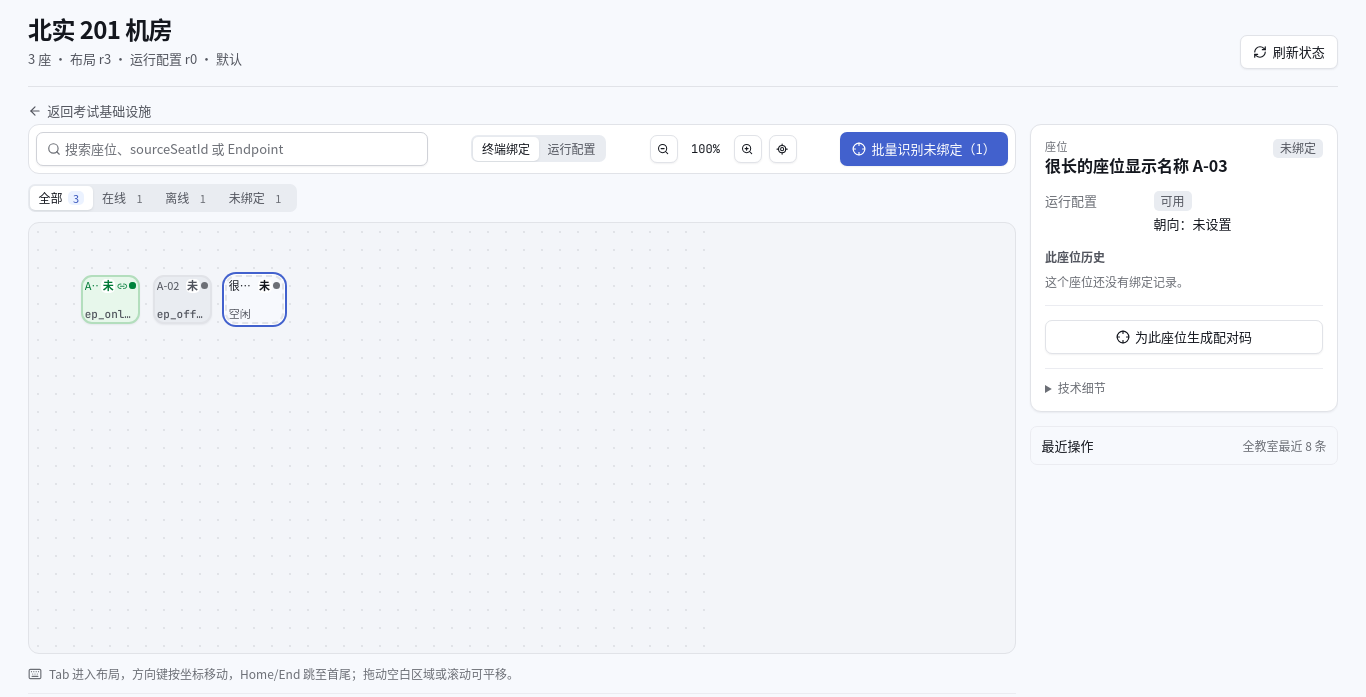
Test: exam classroom endpoint binding workspace › keeps a newly generated pairing code in page memory and sends the exact P2.2 CAS identity
Click the button "为此座位生成配对码".
click(1184, 336)  # box [1045,320,1323,354]
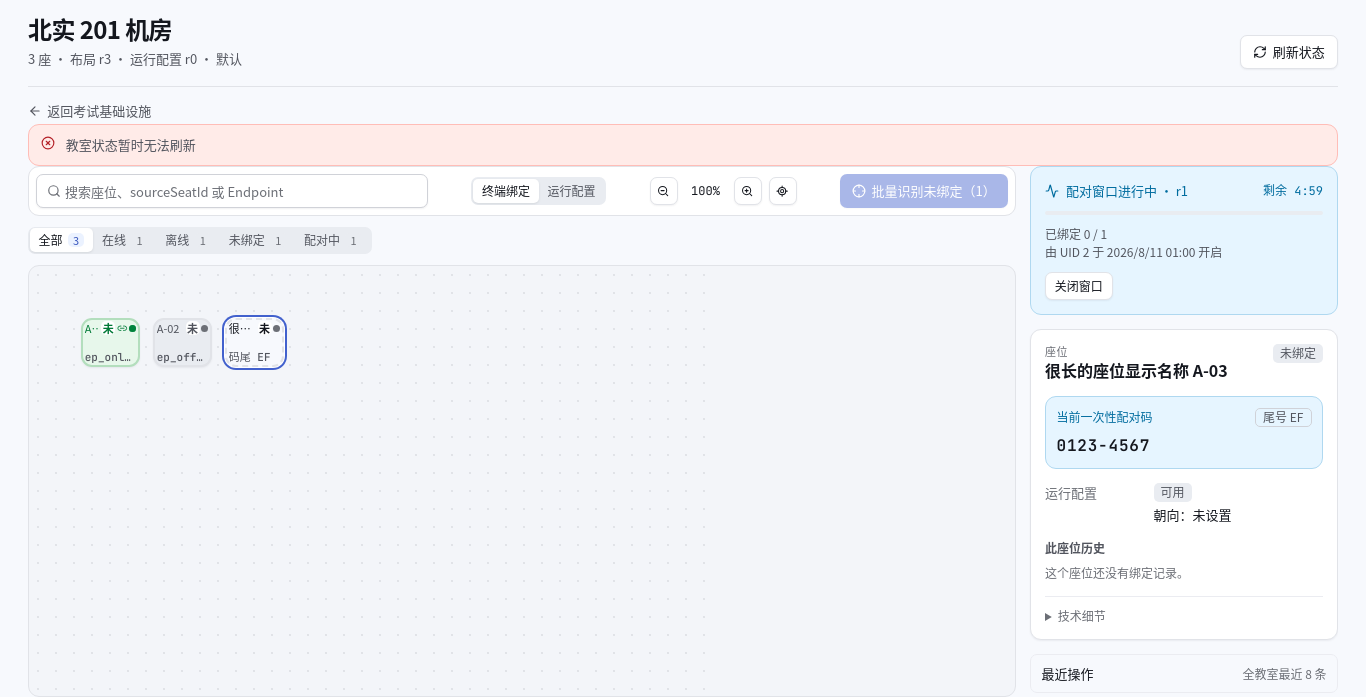
expect the text "0123-4567" is shown: met, box [1056,435,1150,456]
expect the message reads "教室状态暂时无法刷新": met, box [66,135,196,154]
Click the button "刷新状态".
click(1289, 52)  # box [1240,35,1338,69]
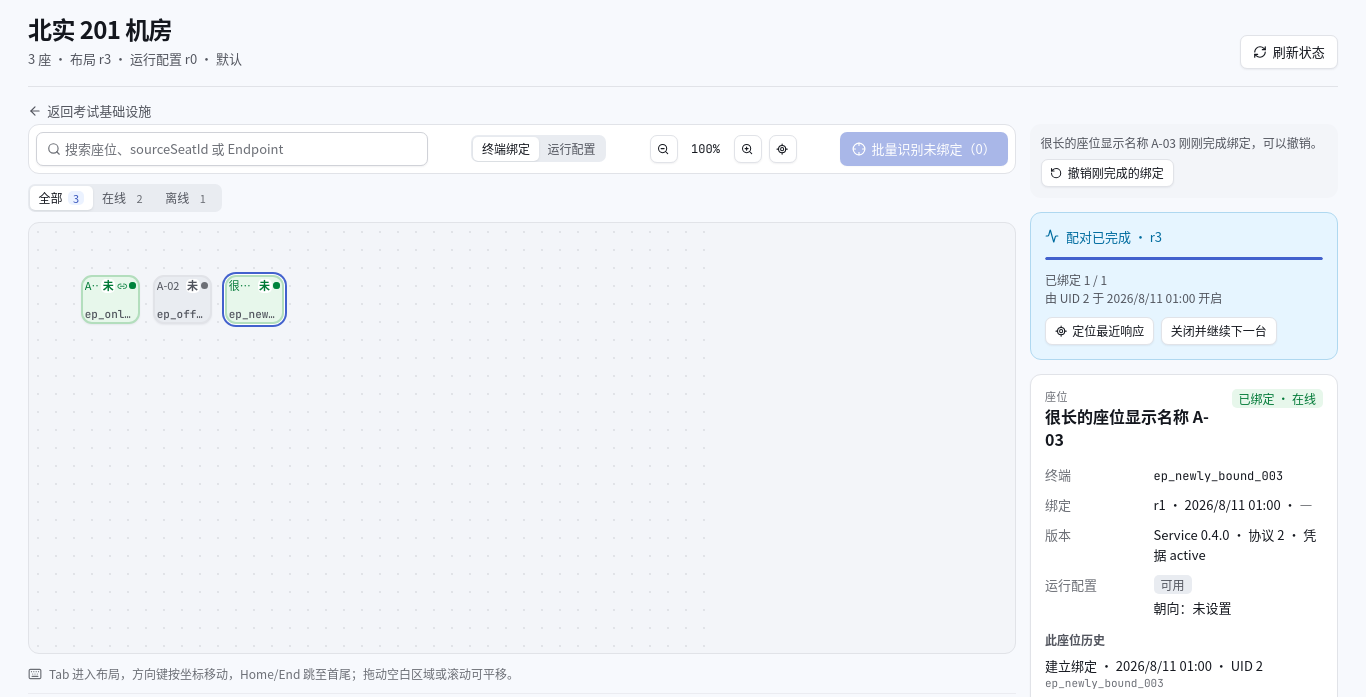
expect the button "撤销刚完成的绑定" is shown: met, box [1040,159,1174,187]
expect the button "定位最近响应" is shown: met, box [1045,317,1154,345]
expect the button with aria-label "很长的座位显示名称 A-03，已绑定 · 在线" is shown: met, box [225,275,284,324]
Click the button "刷新状态".
click(1289, 52)  # box [1240,35,1338,69]
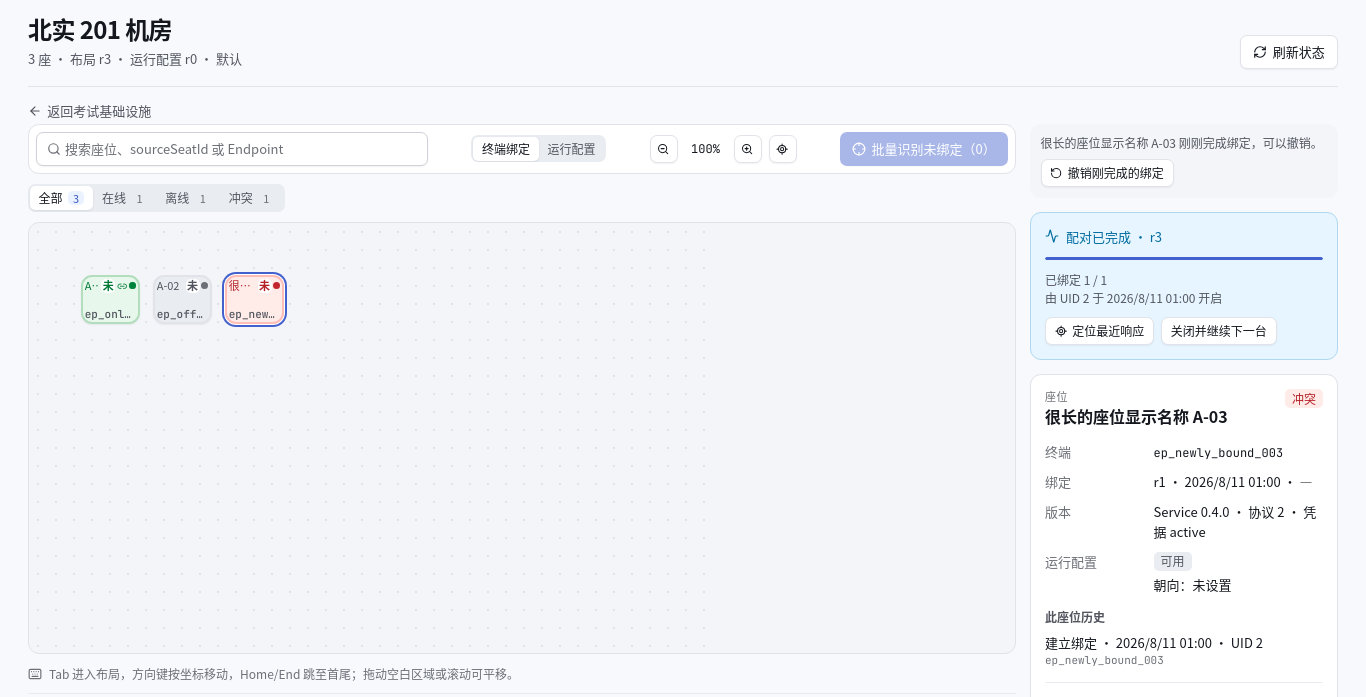
expect the button with aria-label "很长的座位显示名称 A-03，冲突" is shown: met, box [225,275,284,324]
